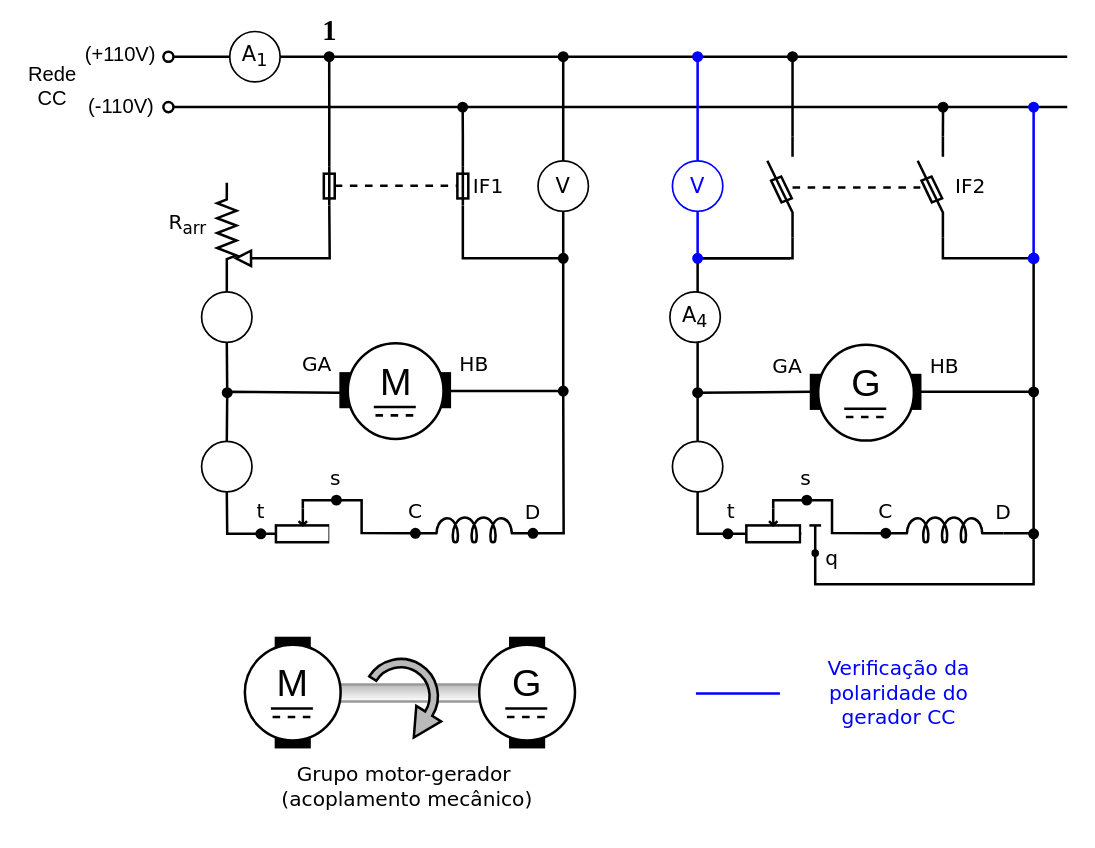
This 1095x848 diagram has some shape labels left out. The shapes that lost their labels are listed below. From the top down, each one's centre as x and y in pixels, then its label:
At point (226, 317): "A 2".
At point (226, 466): "A 3".
At point (697, 466): "A 5".
At point (420, 674): "ω m".
